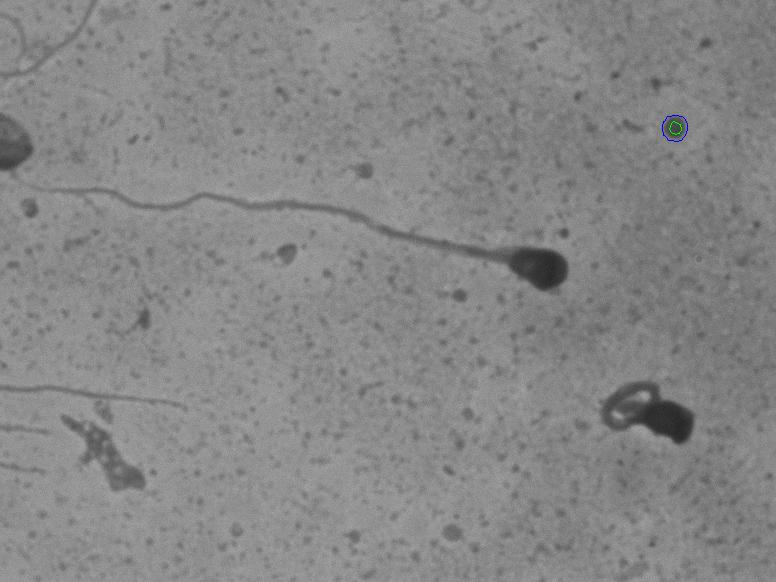Abnormal: (28, 136, 584, 297)
